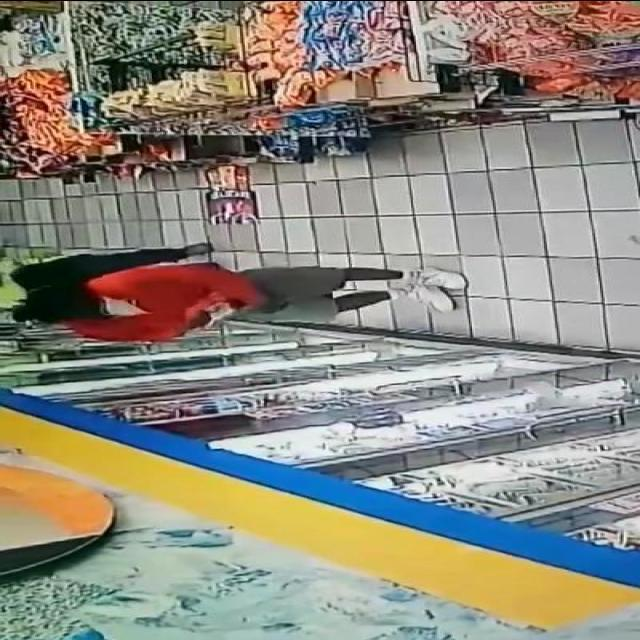Shoplifting: (0, 227, 504, 351)
